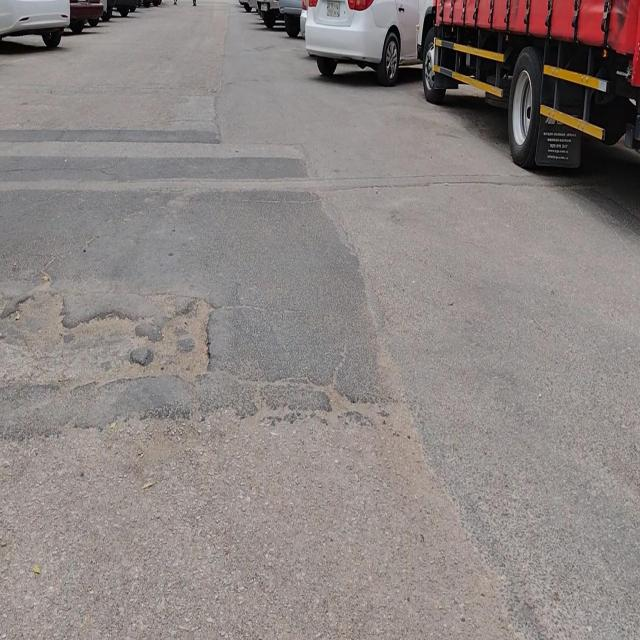Potholes: (128, 292, 217, 389), (62, 302, 139, 391)
